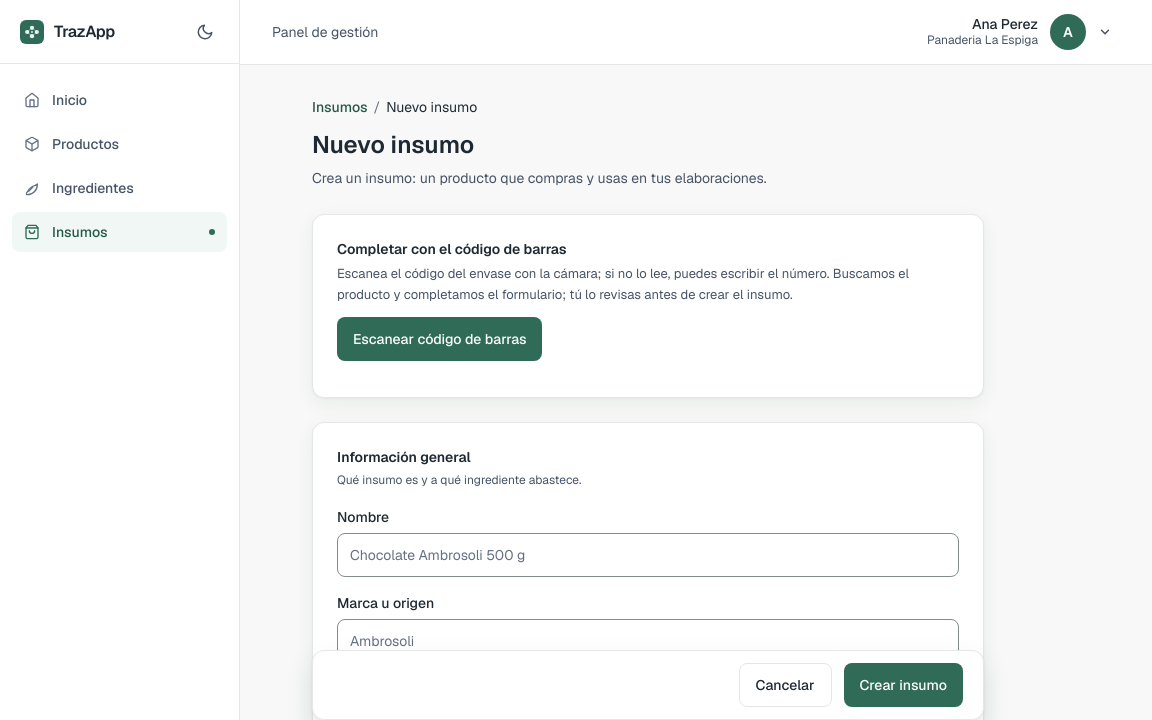
Estados de la búsqueda › no encontrado: lo dice (CA10) y deja el formulario con el código escrito
The width and height of the screenshot is (1152, 720).
Expected: the heading "Nuevo insumo" is shown, left=312, top=129, right=474, bottom=161
Click the button "Escanear código de barras" at (440, 339), box left=337, top=317, right=542, bottom=361
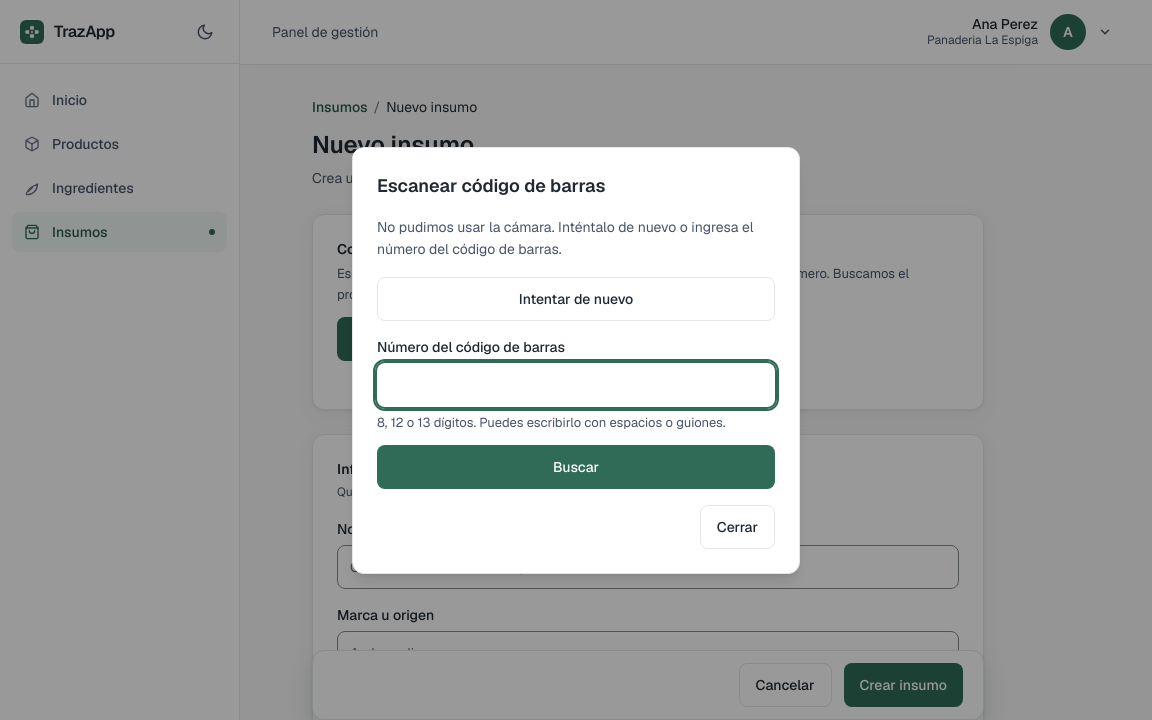
Type "7802910000971" into the field labelled "Número del código de barras" at (576, 385), box left=377, top=363, right=775, bottom=407
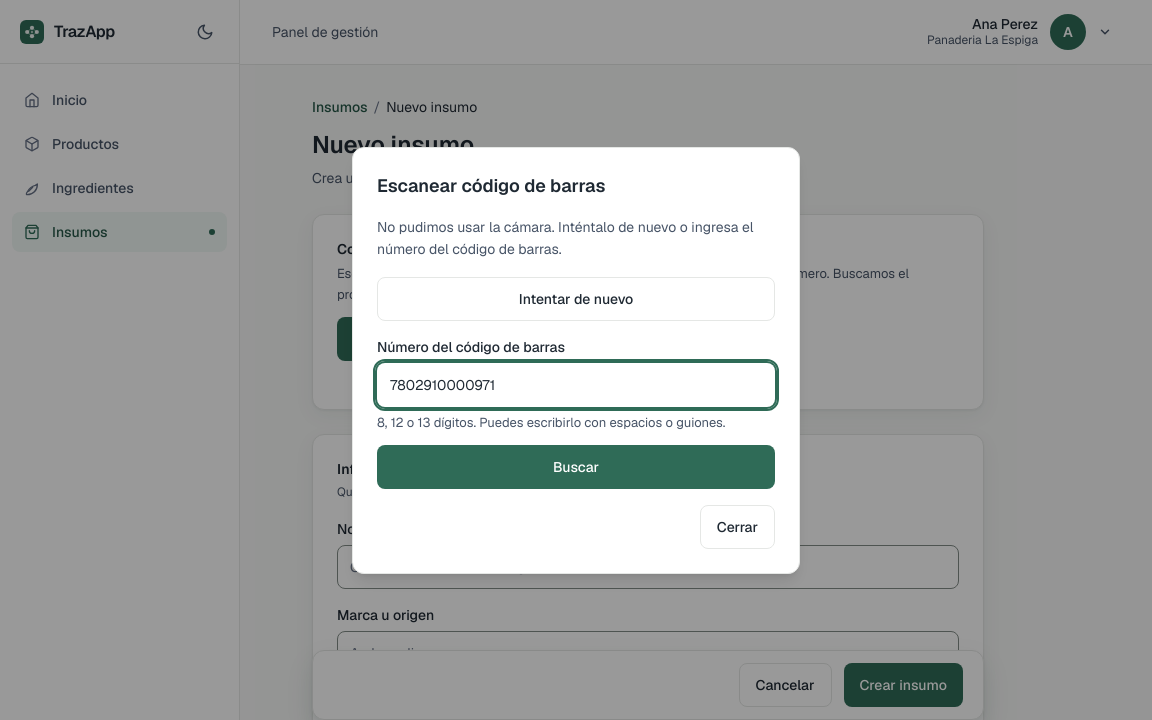
Click the button "Buscar" at (576, 466), box left=377, top=444, right=775, bottom=488
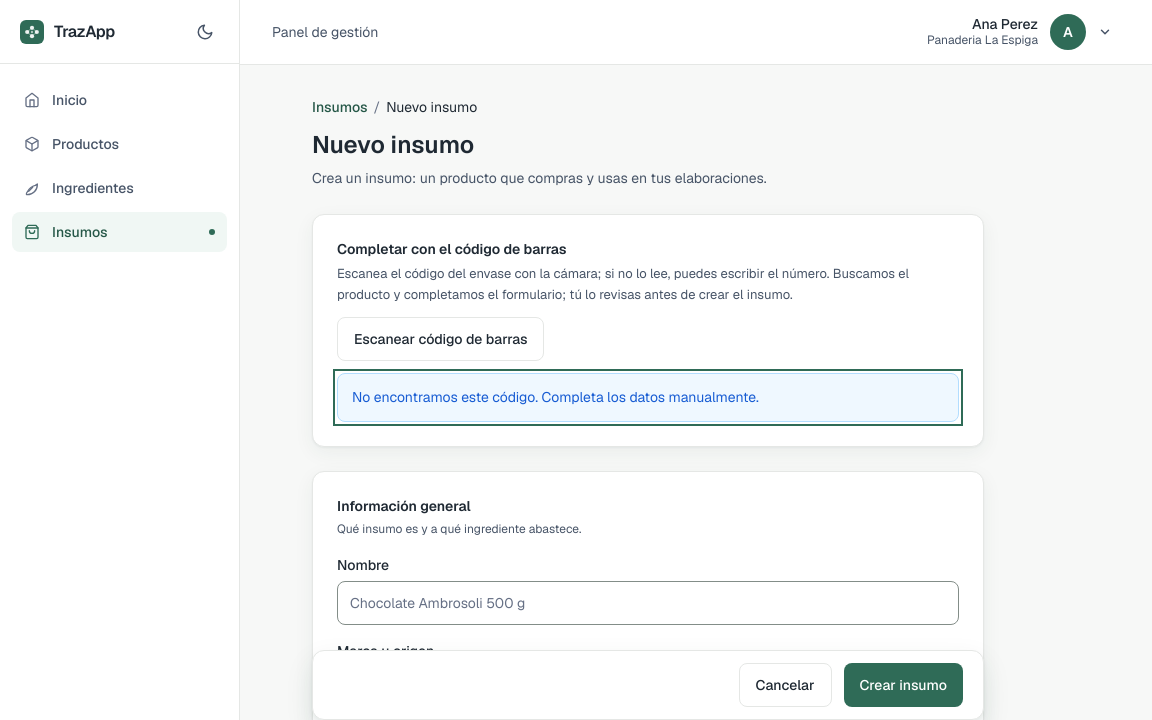
Expected: the field labelled "Nombre" is empty, left=337, top=581, right=959, bottom=625
Now the text "No encontramos este código. Completa los datos manualmente." is shown, box left=337, top=373, right=959, bottom=422
